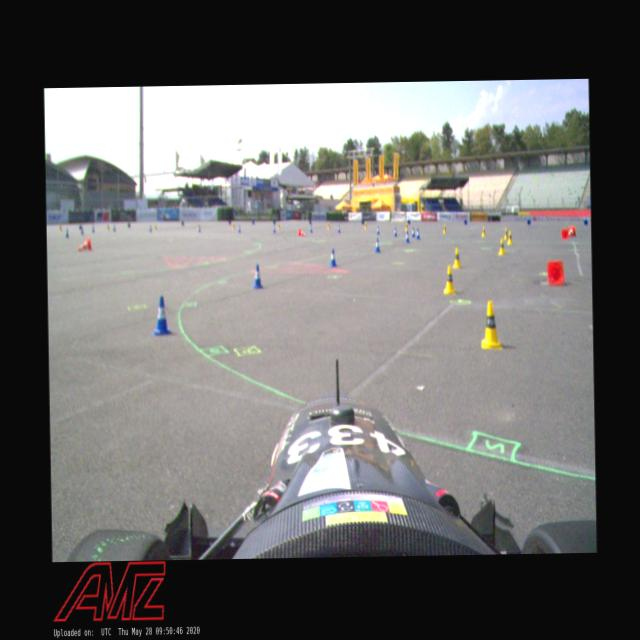blue_cone: (151, 295, 171, 337), (251, 264, 263, 290), (328, 247, 336, 267), (374, 237, 381, 253), (410, 226, 416, 238), (404, 230, 409, 243), (415, 228, 420, 240), (376, 224, 380, 235), (393, 226, 397, 236), (336, 224, 341, 232), (237, 224, 241, 234), (272, 224, 276, 233), (308, 224, 312, 232)
orange_cone: (546, 260, 565, 286), (76, 236, 92, 252), (567, 225, 576, 238), (297, 227, 306, 237), (561, 228, 569, 238)
yellow_cone: (479, 298, 502, 351), (442, 264, 457, 294), (452, 246, 462, 269), (496, 237, 506, 256), (506, 229, 514, 245), (502, 226, 508, 240), (480, 225, 486, 238), (442, 223, 446, 234), (404, 221, 408, 231), (326, 220, 330, 230), (277, 221, 280, 230), (232, 221, 234, 230)
